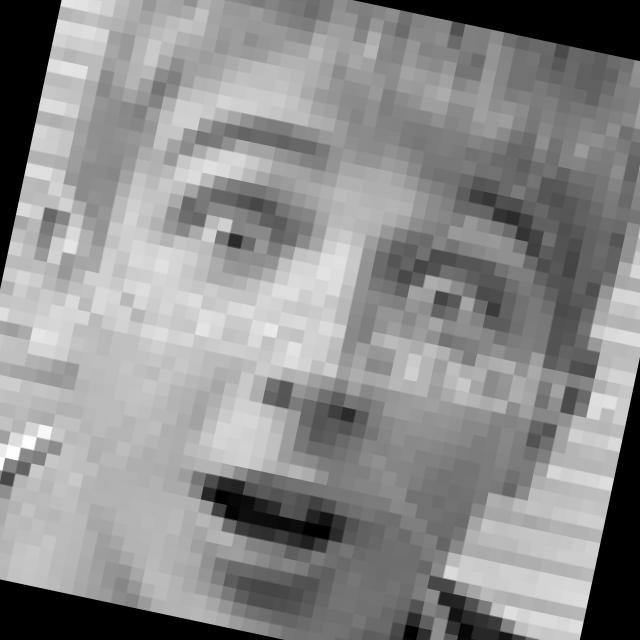surprise: (63, 86, 570, 640)
